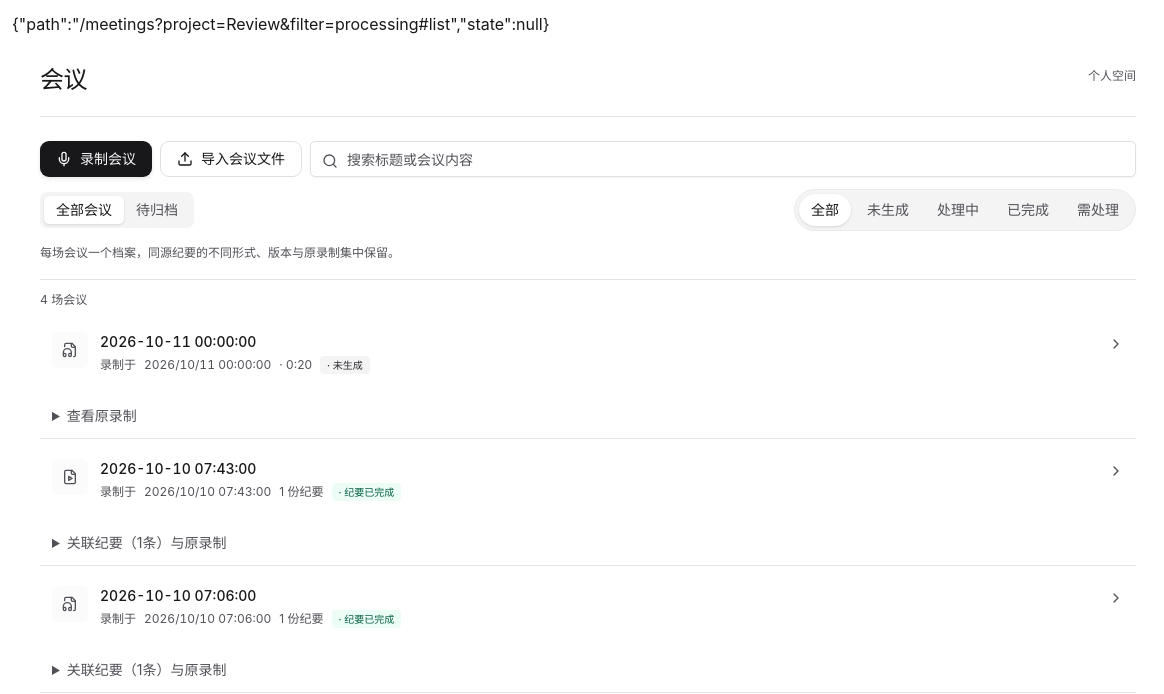
Test case: preserves project/query/hash and the meeting status filter when switching to pending association
Click the tab "需处理" at coordinates (1098, 210), box 1065,194 -> 1131,226
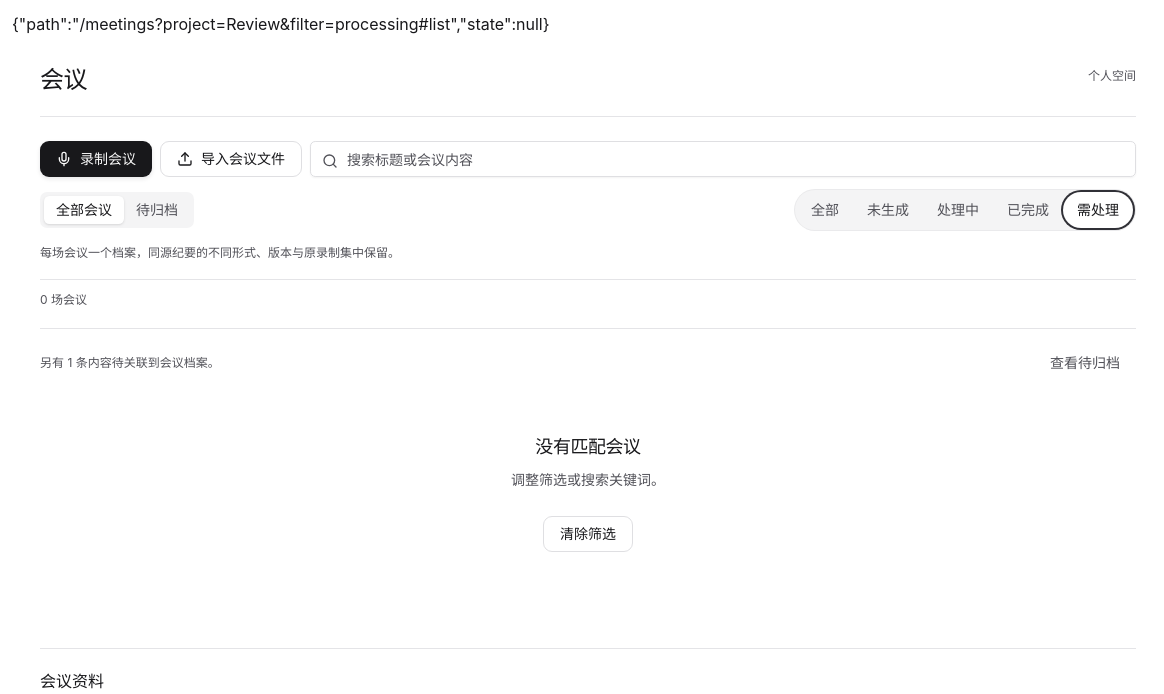
Click the tab "待归档" at coordinates (157, 210), box 124,196 -> 190,224
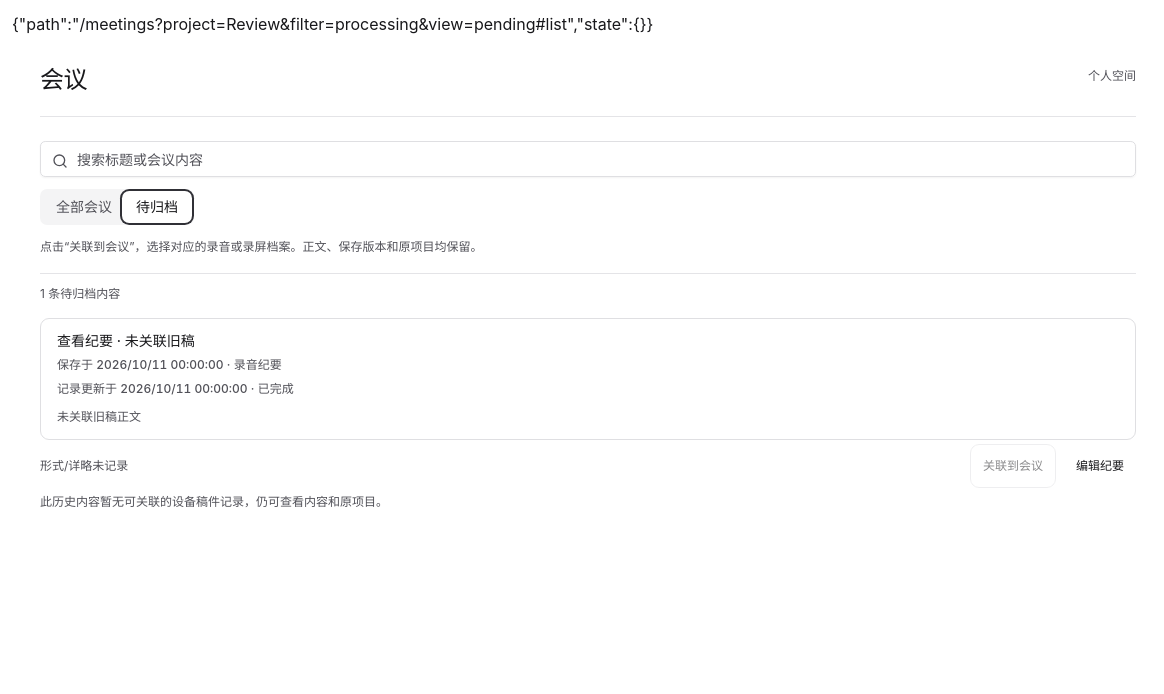
Expected: the text named "测试位置" shows "project=Review&filter=processing&view=pending#list", 12,14 -> 653,34
Expected: the button "查看纪要 · 未关联旧稿" is shown, 40,318 -> 1136,440
Click the tab "全部会议" at coordinates (84, 207), box 44,193 -> 124,221
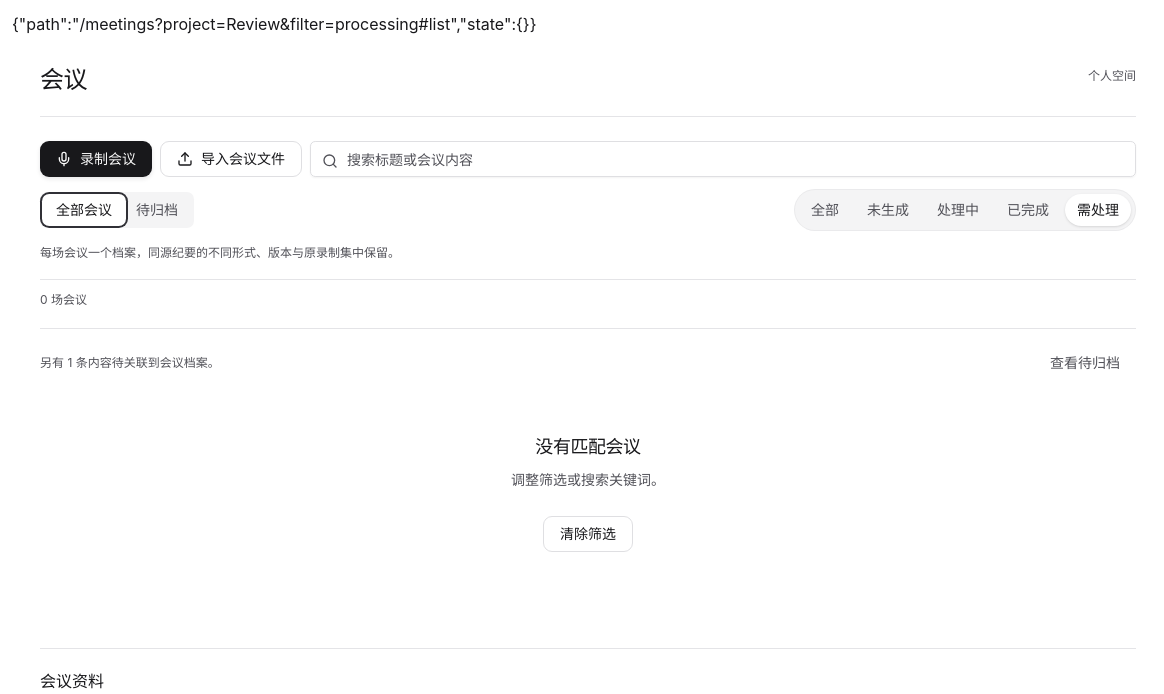
Expected: the text named "测试位置" no longer shows "view=pending", 12,14 -> 536,34
Expected: the text named "测试位置" shows "project=Review&filter=processing#list", 12,14 -> 536,34
